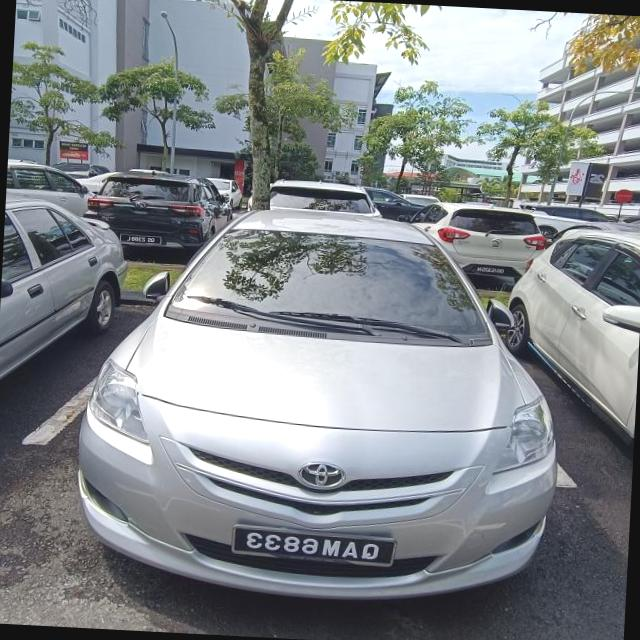ToyotaVios: (70, 194, 572, 612)
